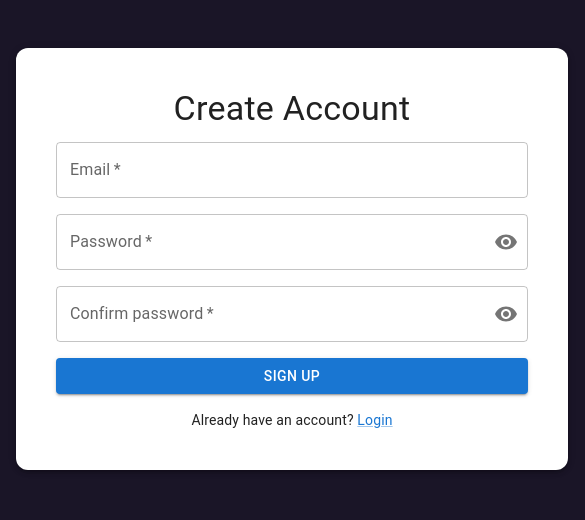
Test: SignupPage › error messages › should show the supabase error message when supabase returns an error for an existing email
Step 1. Type "existing@test.com" into the field with placeholder "Enter Email" → (292, 170), box [56,142,528,198]
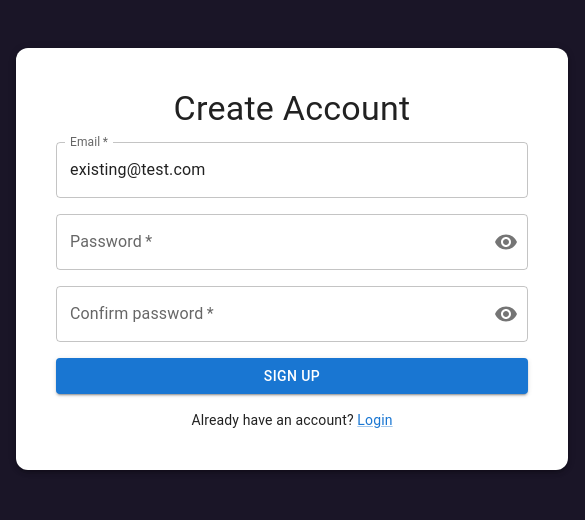
Step 2. Type "Password123!" into the password field with placeholder "Enter Password" → (267, 242), box [56,214,478,270]
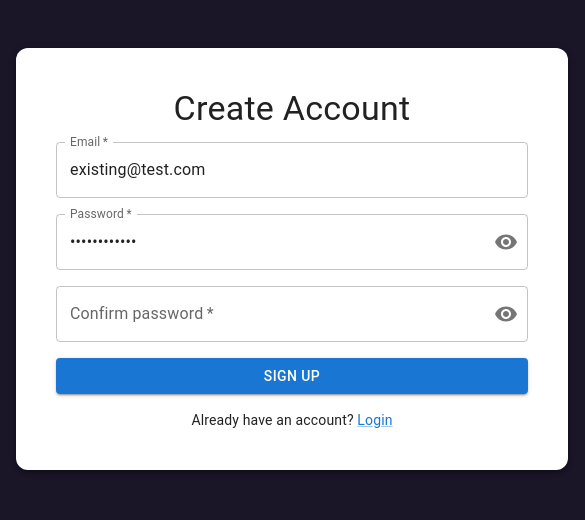
Step 3. Type "Password123!" into the password field with placeholder "Retype Password" → (267, 314), box [56,286,478,342]
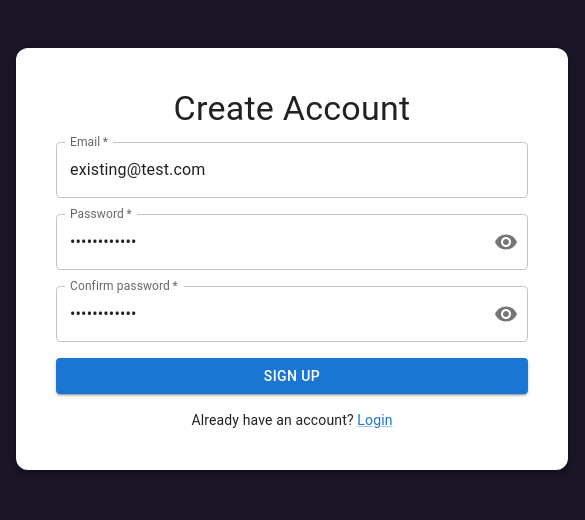
Step 4. Click the button "Sign up" → (292, 376), box [56,358,528,394]
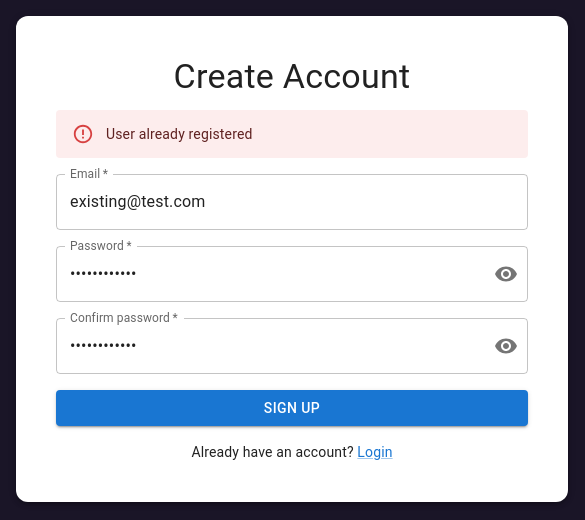
Now the text "User already registered" is shown, box [106,126,252,142]
